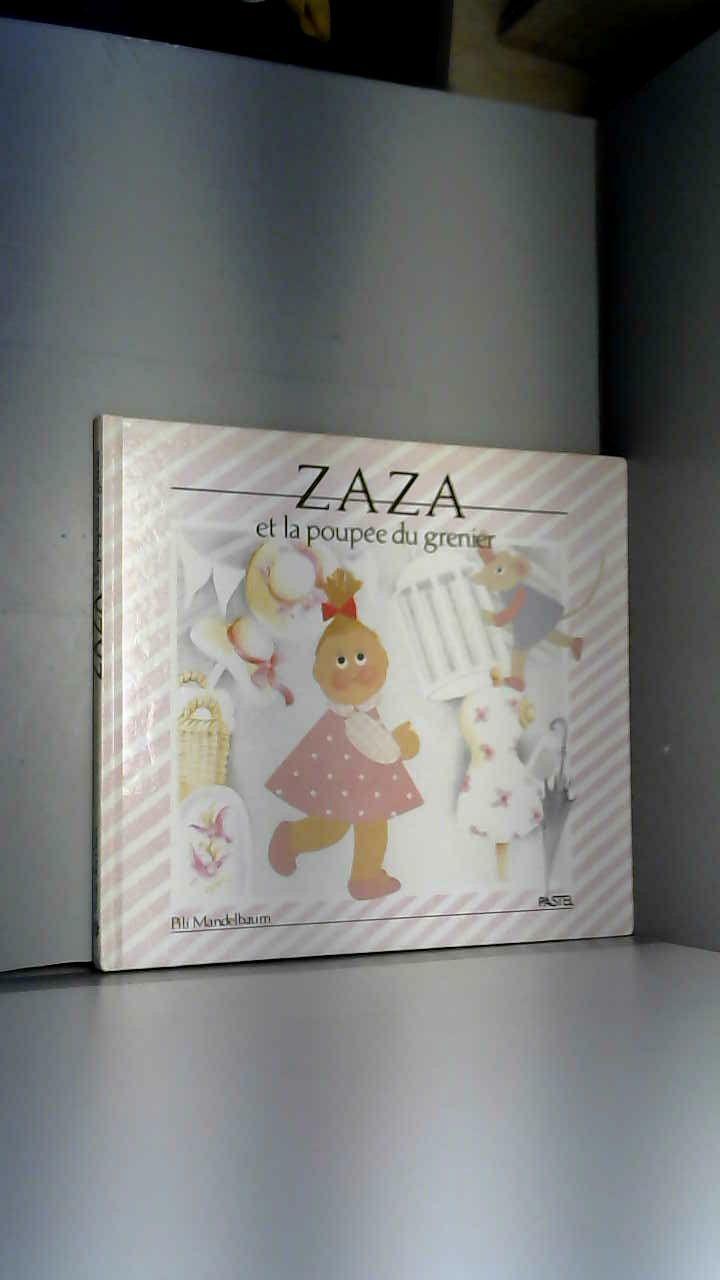book: (65, 377, 676, 1010)
